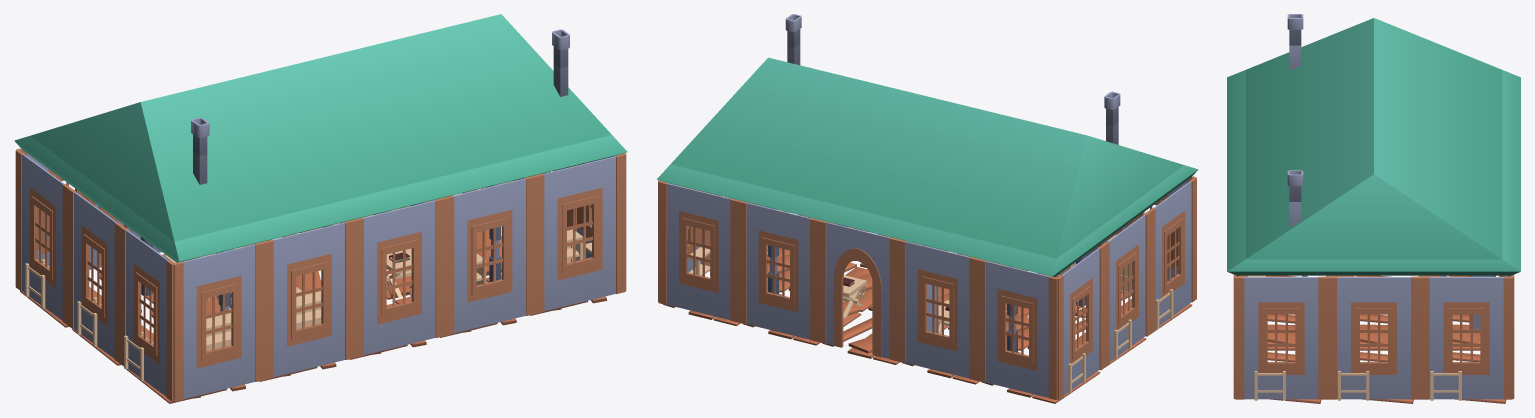
File: london_bld_library.glb
3 views of the same model, side by side, from view 1: azimuth 30°, elevation 25°; view 2: azimuth 150°, elevation 25°; view 3: azimuth 270°, elevation 25° (orthographic). The views are drawn at different scales.
Parts seen in each view (by area): view 1: wall-window-shutters (×10), roof-gable (×3), roof-gable-end (×2), bookcaseClosedWide(Clone) (×2), chimney-top (×2); view 2: wall-window-shutters (×9), roof-gable (×3), roof-gable-end (×2), wall-door, platform-planks (×3), tableCross(Clone), chimney-top; view 3: roof-gable (×3), roof-gable-end (×2), wall-window-shutters (×5), platform-planks (×3), bookcaseOpenLow(Clone) (×3), chimney-top (×2), chimney-base (×2).
Part boxes in pixels (bbox=[...]): wall-window-shutters (×10): bbox=[15, 148, 626, 401]; roof-gable (×3): bbox=[186, 25, 538, 241]; roof-gable-end (×2): bbox=[14, 14, 627, 262]; bookcaseClosedWide(Clone) (×2): bbox=[206, 291, 321, 351]; chimney-top (×2): bbox=[191, 29, 569, 155]; wall-window-shutters (×9): bbox=[658, 176, 1196, 400]; roof-gable (×3): bbox=[735, 67, 1046, 258]; roof-gable-end (×2): bbox=[657, 57, 1198, 277]; wall-door: bbox=[817, 220, 898, 361]; platform-planks (×3): bbox=[743, 262, 899, 364]; tableCross(Clone): bbox=[789, 275, 866, 318]; chimney-top: bbox=[785, 14, 801, 47]; roof-gable (×3): bbox=[1227, 37, 1520, 232]; roof-gable-end (×2): bbox=[1227, 18, 1520, 275]; wall-window-shutters (×5): bbox=[1233, 274, 1514, 399]; platform-planks (×3): bbox=[1267, 324, 1480, 361]; bookcaseOpenLow(Clone) (×3): bbox=[1254, 371, 1461, 400]; chimney-top (×2): bbox=[1287, 14, 1303, 201]; chimney-base (×2): bbox=[1289, 45, 1301, 227].
Size of the model in its own units: 20.3 by 10.41 by 12.7.
Materials: 16 (9 with a texture image).
